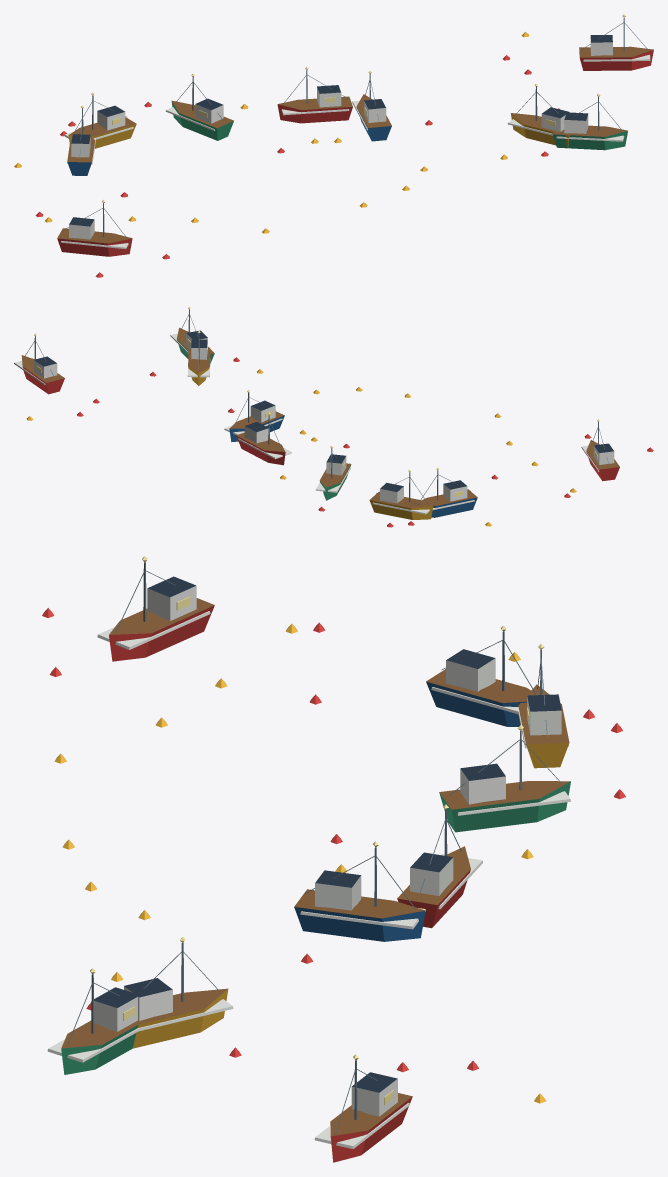
The model's file is W2_Mid_FishingBoats.fbx.
3 renders of one model, top to bottom at view 1: azimuth 30°, elevation 25°; view 2: azimuth 150°, elevation 25°; view 3: azimuth 270°, elevation 25°, orthographic. The views are drawn at different scales.
Parts seen in each view (by area): view 1: W2_Mid_FishingBoats; view 2: W2_Mid_FishingBoats; view 3: W2_Mid_FishingBoats.
Boxes of the visible parts, box(x1,y1,x2,y2) form: W2_Mid_FishingBoats: box(14, 14, 653, 277); W2_Mid_FishingBoats: box(14, 306, 653, 527); W2_Mid_FishingBoats: box(42, 556, 625, 1162).
Size of the model in its own units: 149 by 11.82 by 66.81.
